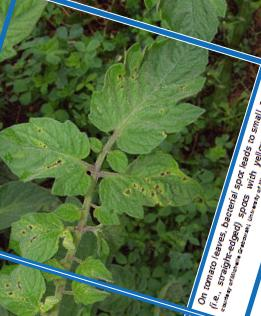Tomato leaf bacterial spot: (75, 20, 222, 168), (90, 137, 210, 240), (0, 92, 112, 202), (3, 199, 76, 269)
